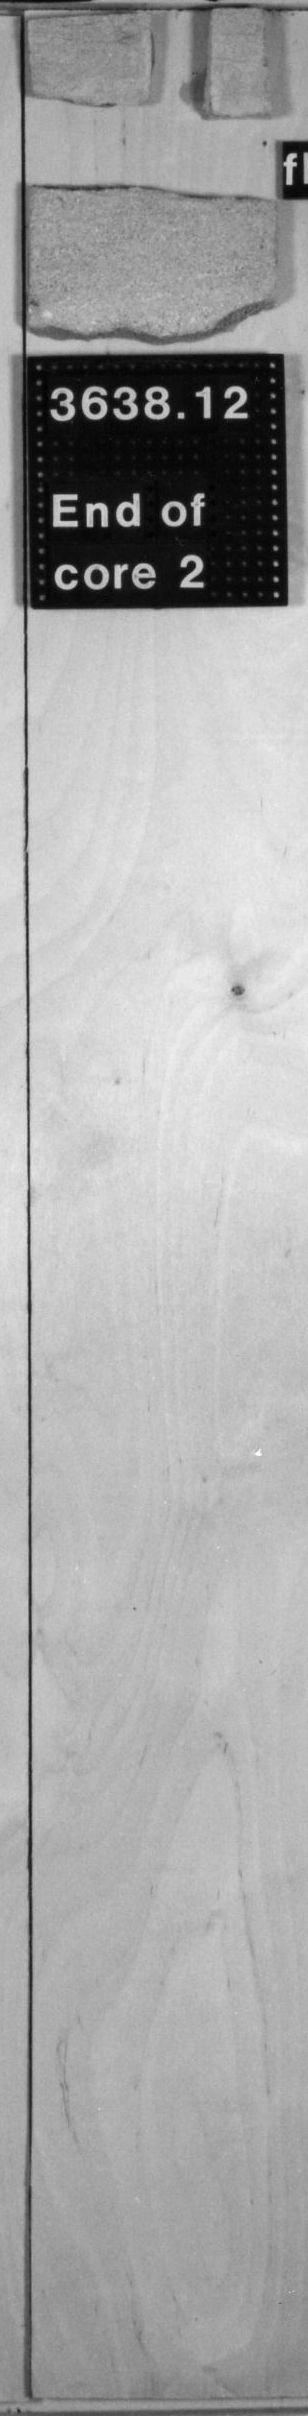hplug: (25, 89, 288, 202)
vplug: (134, 5, 229, 114)
